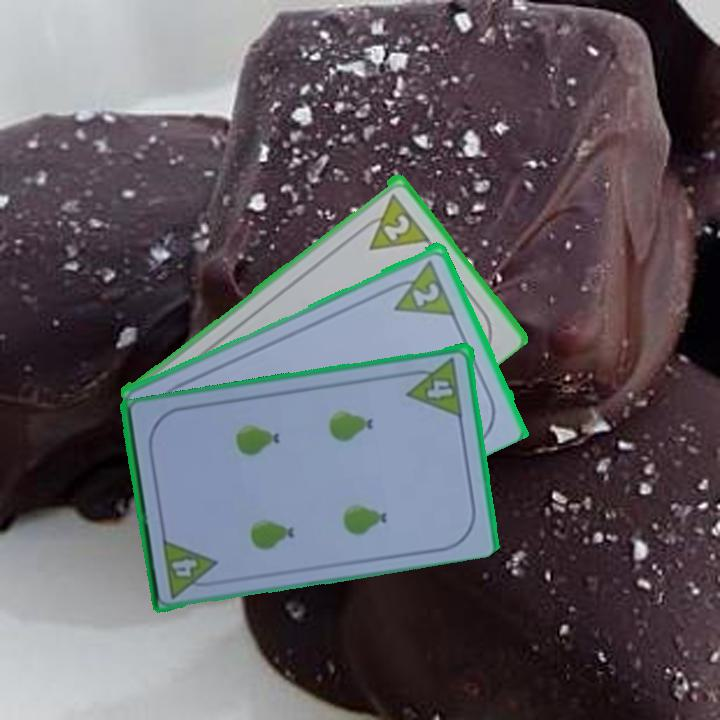2p: (353, 188, 432, 253), (383, 255, 458, 318)
4p: (159, 535, 224, 600), (402, 353, 466, 419)
